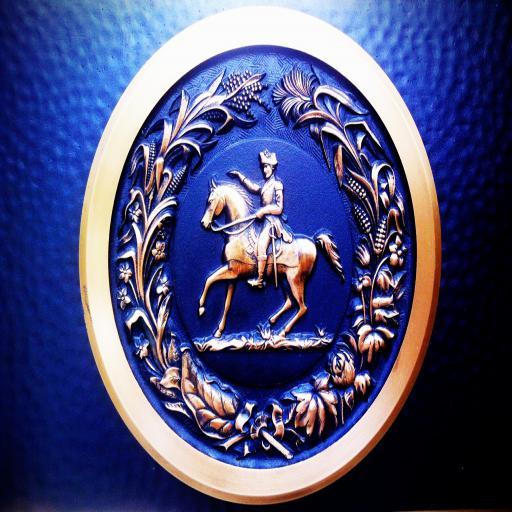Horse: (198, 178, 345, 344)
